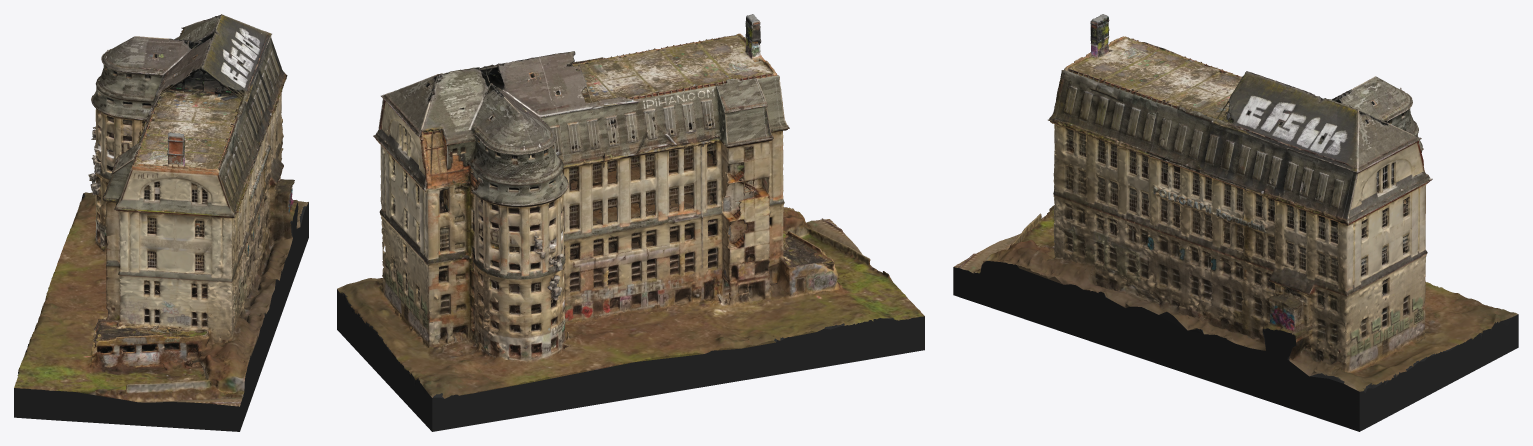
File: factory.glb
3 views of the same model, side by side, from view 1: azimuth 30°, elevation 25°; view 2: azimuth 150°, elevation 25°; view 3: azimuth 270°, elevation 25° (orthographic). The views are drawn at different scales.
Visible parts, largest first — view 1: Polygraphenwerk_Polygraphenwerk.1002_0, Polygraphenwerk_Polygraphenwerk.1003_0, Polygraphenwerk_Polygraphenwerk.1005_0, Polygraphenwerk_Polygraphenwerk.1001_0, Polygraphenwerk_Polygraphenwerk.1004_0; view 2: Polygraphenwerk_Polygraphenwerk.1004_0, Polygraphenwerk_Polygraphenwerk.1002_0, Polygraphenwerk_Polygraphenwerk.1005_0, Polygraphenwerk_Polygraphenwerk.1003_0; view 3: Polygraphenwerk_Polygraphenwerk.1001_0, Polygraphenwerk_Polygraphenwerk.1002_0, Polygraphenwerk_Polygraphenwerk.1005_0, Polygraphenwerk_Polygraphenwerk.1003_0.
Part boxes in pixels (bbox=[...]): Polygraphenwerk_Polygraphenwerk.1002_0: bbox=[14, 14, 308, 406]; Polygraphenwerk_Polygraphenwerk.1003_0: bbox=[91, 74, 286, 368]; Polygraphenwerk_Polygraphenwerk.1005_0: bbox=[14, 27, 308, 431]; Polygraphenwerk_Polygraphenwerk.1001_0: bbox=[218, 37, 298, 337]; Polygraphenwerk_Polygraphenwerk.1004_0: bbox=[102, 87, 157, 320]; Polygraphenwerk_Polygraphenwerk.1004_0: bbox=[420, 75, 788, 347]; Polygraphenwerk_Polygraphenwerk.1002_0: bbox=[337, 14, 924, 398]; Polygraphenwerk_Polygraphenwerk.1005_0: bbox=[337, 36, 924, 431]; Polygraphenwerk_Polygraphenwerk.1003_0: bbox=[373, 76, 841, 345]; Polygraphenwerk_Polygraphenwerk.1001_0: bbox=[1048, 68, 1357, 363]; Polygraphenwerk_Polygraphenwerk.1002_0: bbox=[954, 14, 1517, 391]; Polygraphenwerk_Polygraphenwerk.1005_0: bbox=[953, 38, 1518, 431]; Polygraphenwerk_Polygraphenwerk.1003_0: bbox=[1049, 70, 1432, 372].
Size of the model in its own units: 33.64 by 19.8 by 36.34.
Materials: 5 (5 with a texture image).
